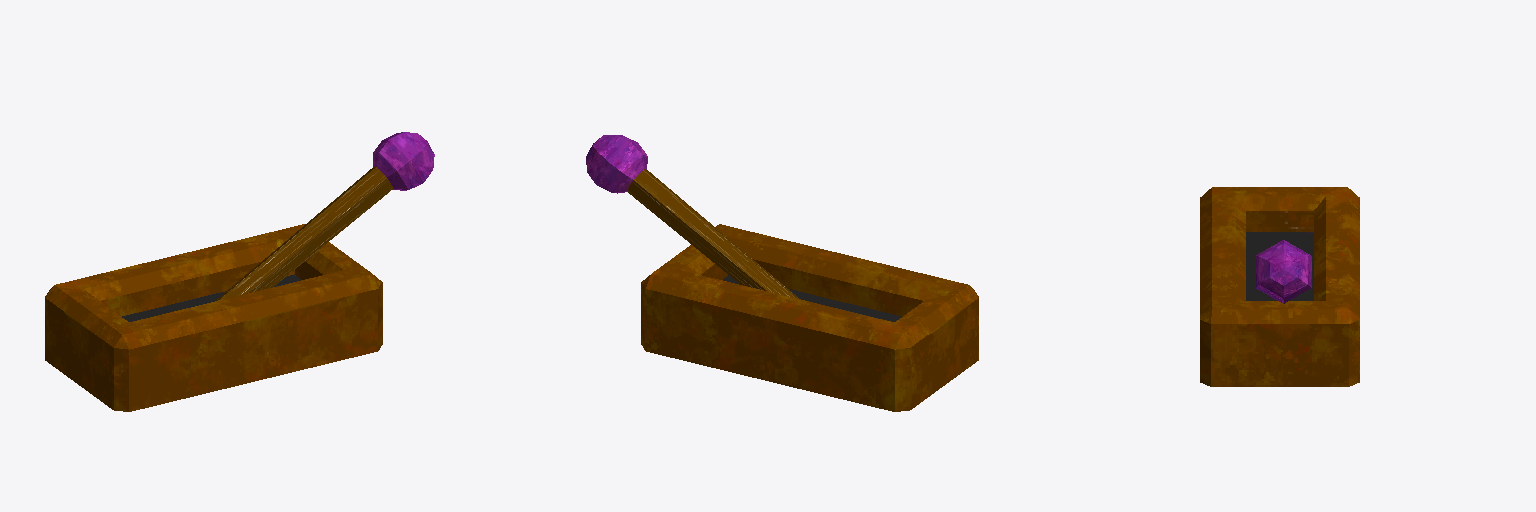
The picture shows the model from 3 angles: view 1: azimuth 30°, elevation 25°; view 2: azimuth 150°, elevation 25°; view 3: azimuth 270°, elevation 25°; orthographic projection.
Parts seen in each view (by area): view 1: Palanca.005; view 2: Palanca.005; view 3: Palanca.005.
Part boxes in pixels (x1,y1,x2,y2): Palanca.005: (45, 132, 434, 411); Palanca.005: (586, 135, 978, 411); Palanca.005: (1200, 187, 1359, 386).
Bounding box in the file's own units: 5.09 × 2.37 × 2.
2 materials, 1 textured.